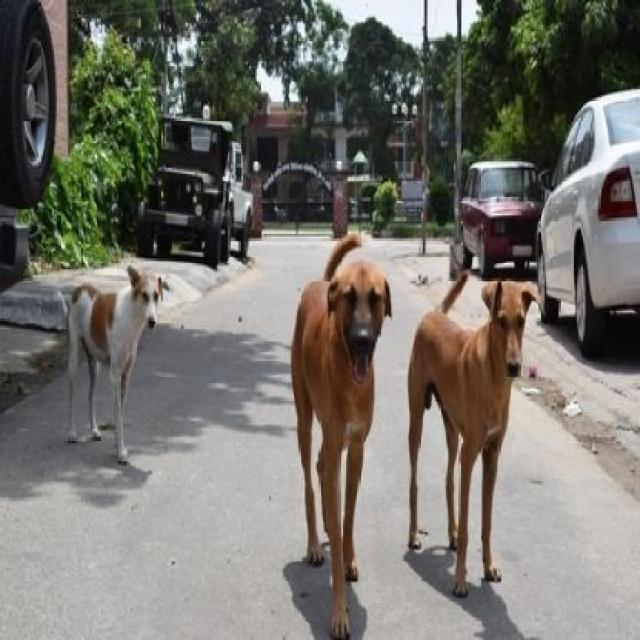dog: (279, 233, 398, 625), (411, 280, 520, 578), (68, 248, 160, 466)
